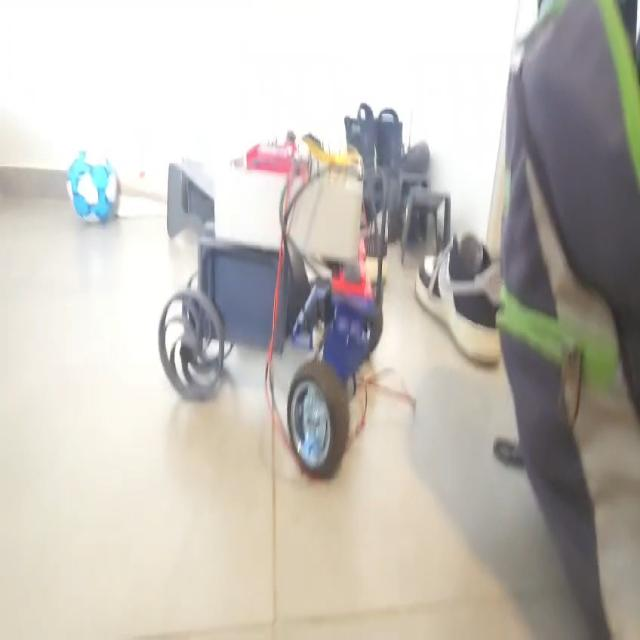Robot: (154, 128, 388, 494)
